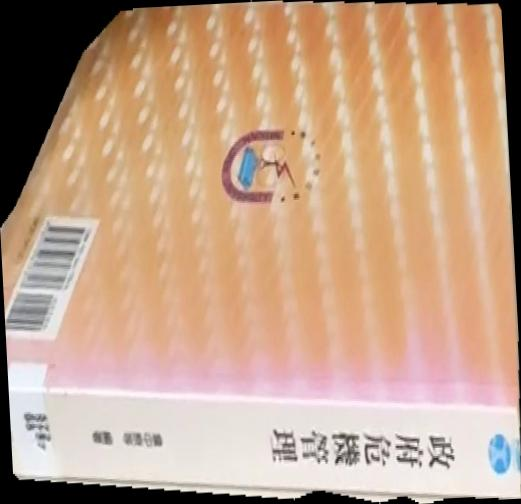flat: (1, 1, 521, 504)
